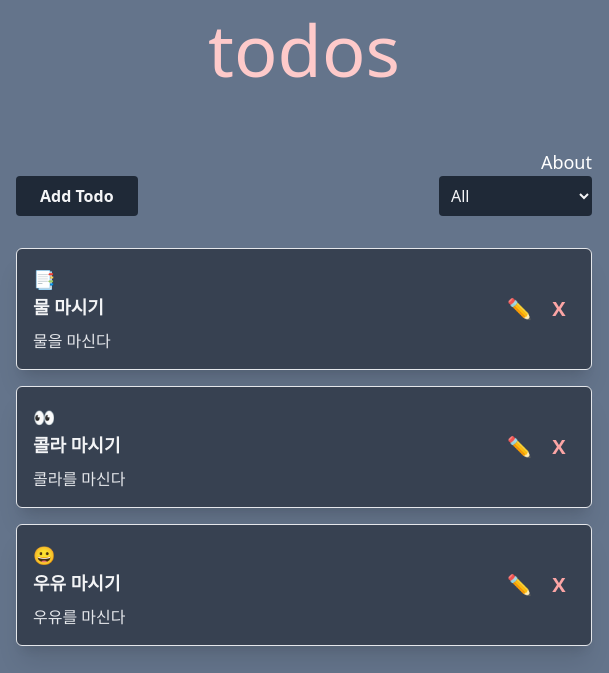
Test: 필터링 항목에 맞게 todo 목록들이 필터링된다.
This screenshot has width=609, height=673.
Select "📑 To do" in the dropdown with test id "todo-filter" at (516, 196), box [439, 176, 592, 216]
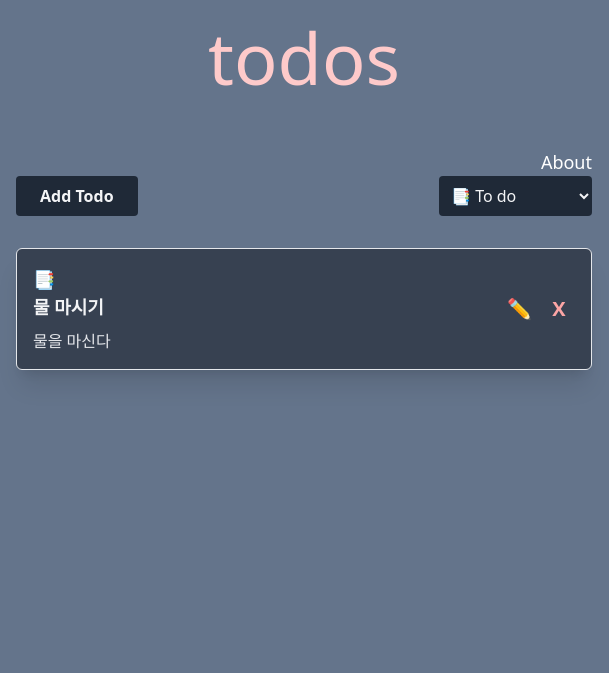
Expected: the number of list items is 1, [16, 248, 592, 370]
Select "👀 On progress" in the dropdown with test id "todo-filter" at (516, 196), box [439, 176, 592, 216]
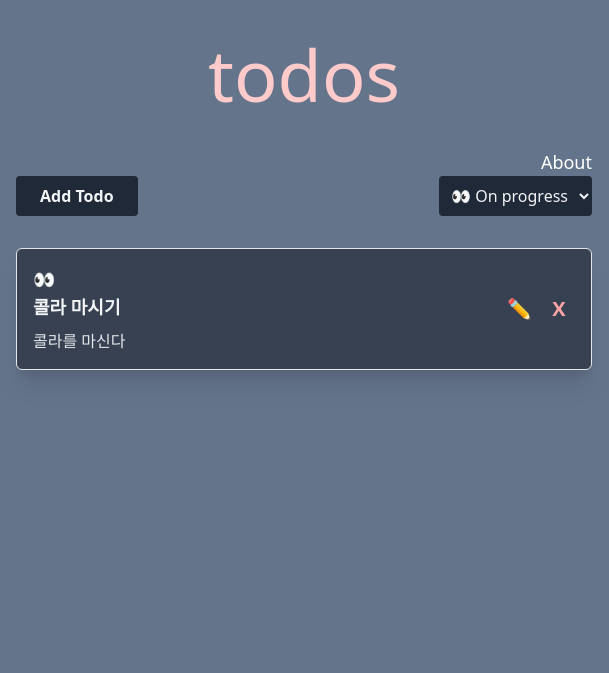
Expected: the number of list items is 1, [16, 248, 592, 370]
Select "😀 Done" in the dropdown with test id "todo-filter" at (516, 196), box [439, 176, 592, 216]
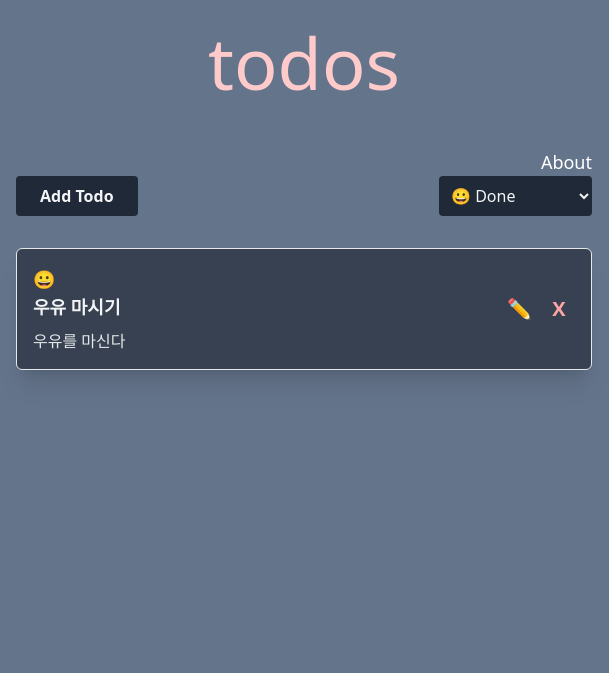
Expected: the number of list items is 1, [16, 248, 592, 370]
Select "All" in the dropdown with test id "todo-filter" at (516, 196), box [439, 176, 592, 216]
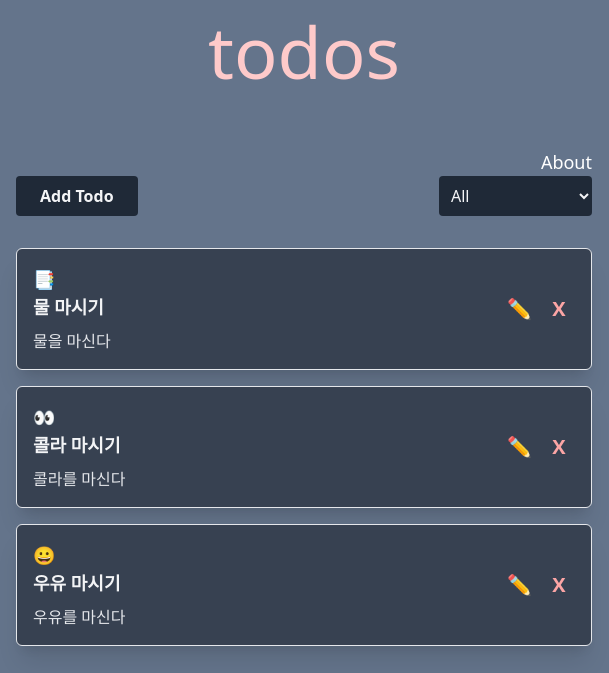
Expected: the number of list items is 3, [16, 248, 592, 370]; [16, 386, 592, 508]; [16, 524, 592, 646]
